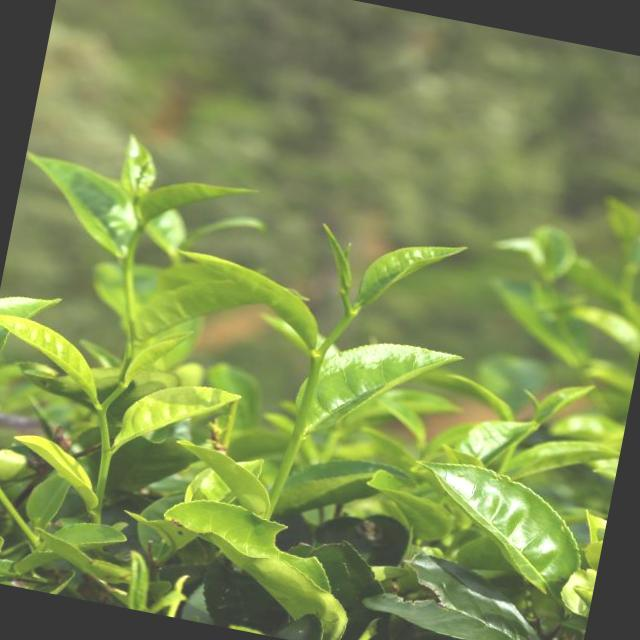Stem: (312, 351, 324, 365), (98, 405, 106, 415)
